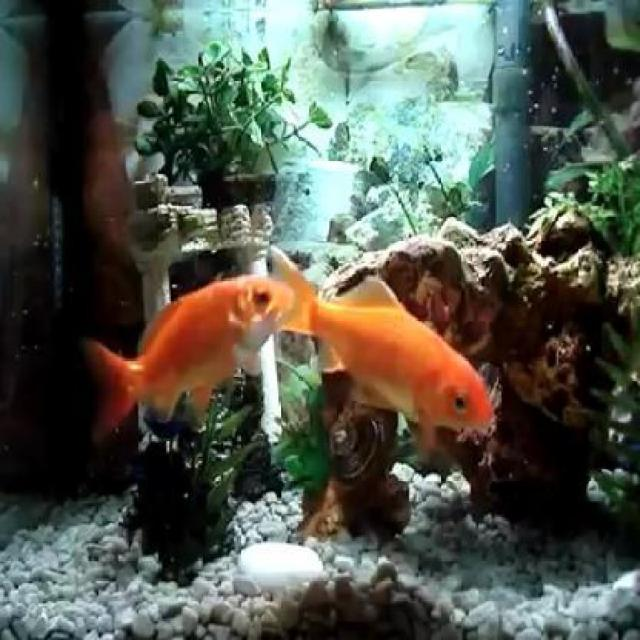GoldFish: (87, 252, 307, 434), (309, 281, 497, 439)
